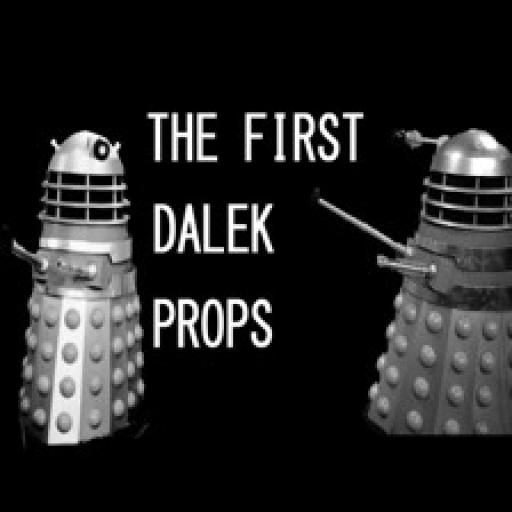dalek: (310, 126, 512, 432), (6, 127, 154, 458)
